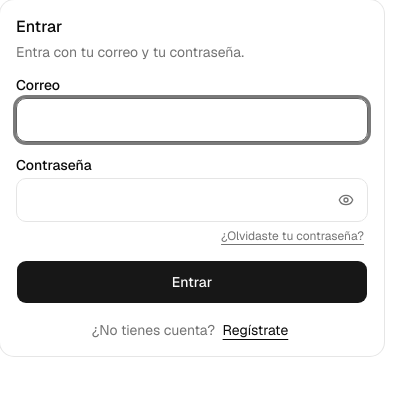
Scenario: FormularioEntrar › un código de la contraseña marca solo la contraseña
In the field labelled "Correo": [192, 120] box x1=16 y1=98 x2=368 y2=142, type "a@b.co"
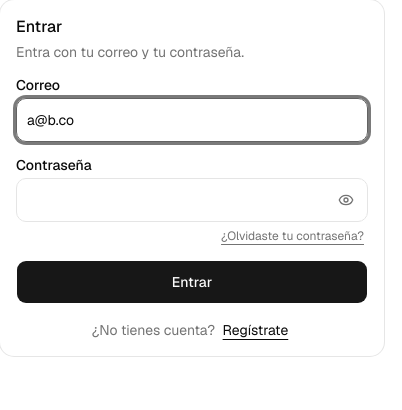
In the password field labelled "Contraseña": [192, 200] box x1=16 y1=178 x2=368 y2=222, type "secreta123"
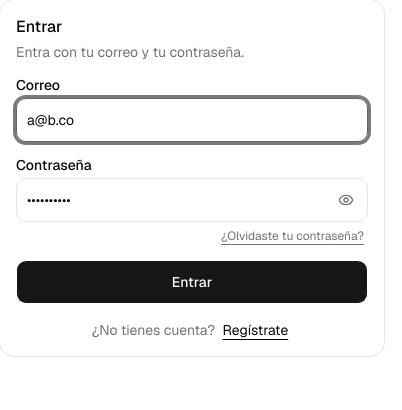
Click the button "Entrar": [192, 282] box x1=16 y1=260 x2=368 y2=304
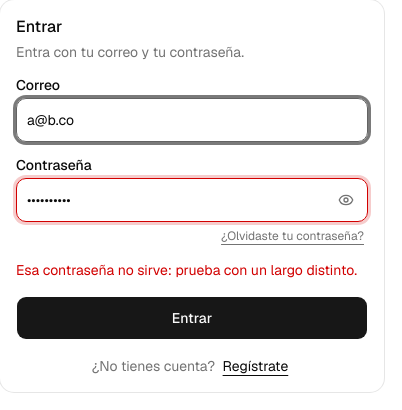
Check: the message reads "Esa contraseña no sirve: prueba con un largo distinto.", box x1=16 y1=261 x2=357 y2=279
